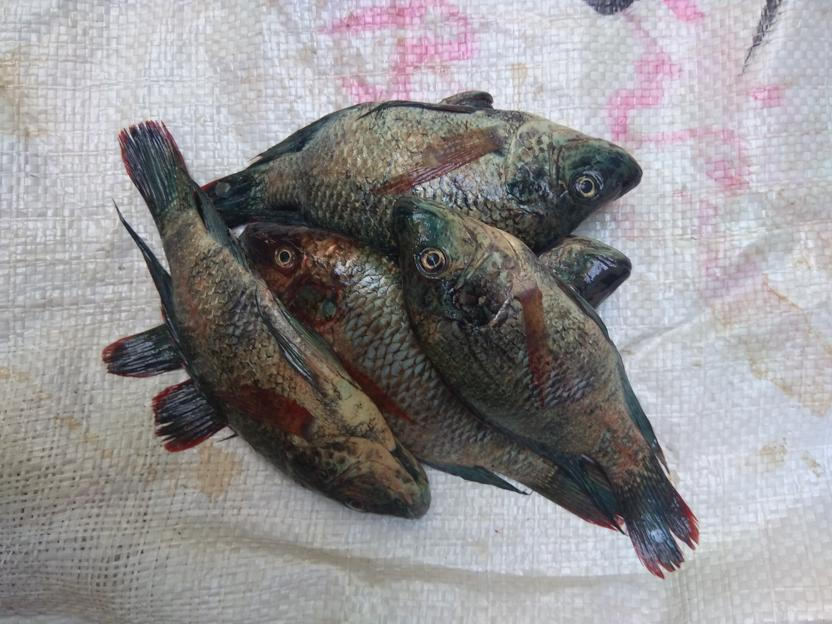Fish head: (388, 195, 524, 326), (505, 118, 644, 246), (291, 427, 431, 519), (242, 221, 352, 324), (536, 235, 632, 312)
Fish tail: (610, 449, 701, 578), (117, 120, 195, 234), (151, 378, 225, 454), (100, 321, 178, 380)
